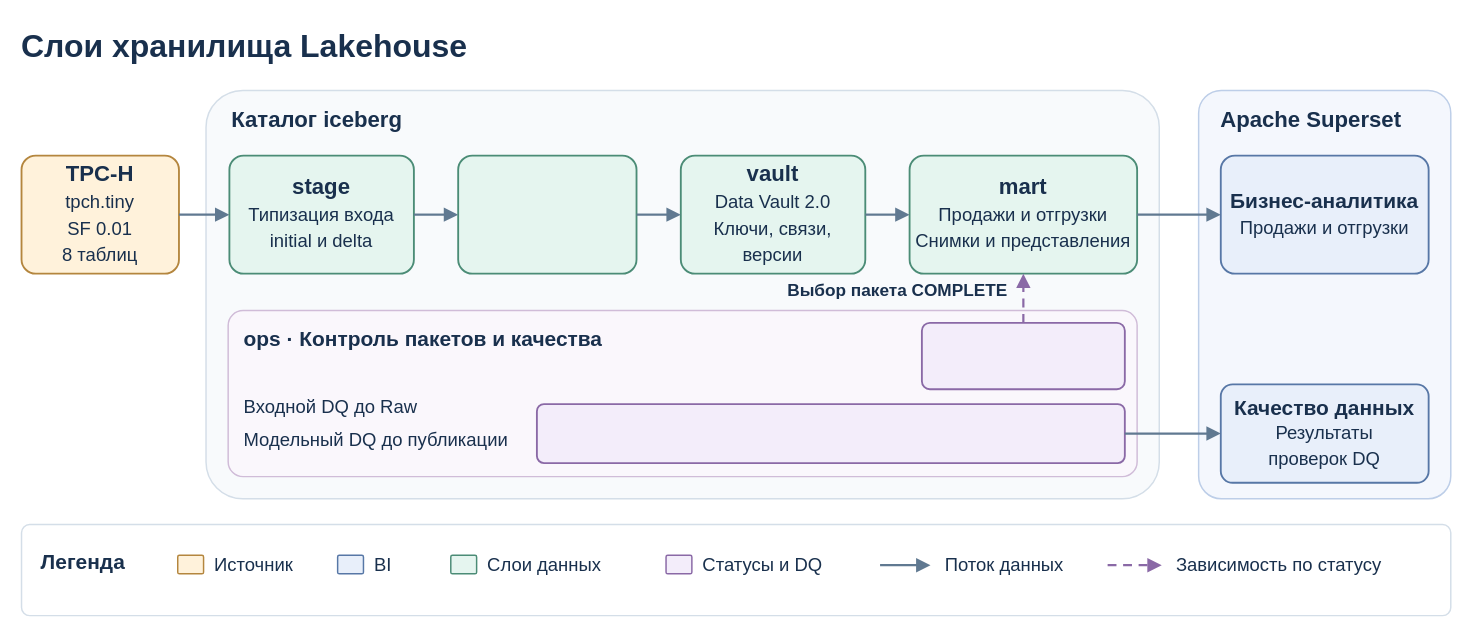
This 1474x637 diagram has some shape labels left out. Here are the shapes that lost their labels. From the top down, the centre of each, then its label:
At point 547,214: "raw 8 таблиц Строки по пакетам".
At point 1022,355: "ops.batches Статусы пакетов".
At point 830,433: "ops.dq_results Факты проверок, включая ошибки".
